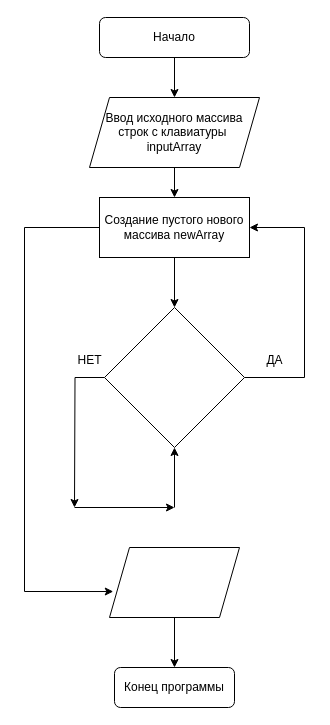
Some shapes in this 330 by 725 pixel diagram are drawn without their labels. The box of each missing label's shape, as (x1, y1, x2, y2) in pixels:
Вывод нового массива на экран: (108, 546, 240, 618)
Длина <= 3 символам: (104, 306, 244, 448)
